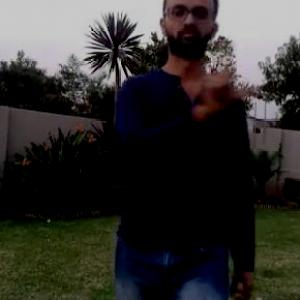land_hand: (190, 43, 256, 118)
